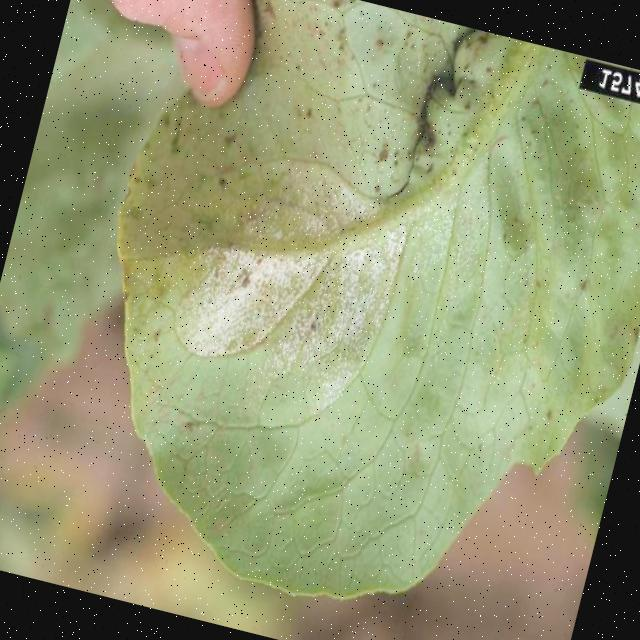Powdery_mildew_on_lettuce: (155, 126, 444, 427)
